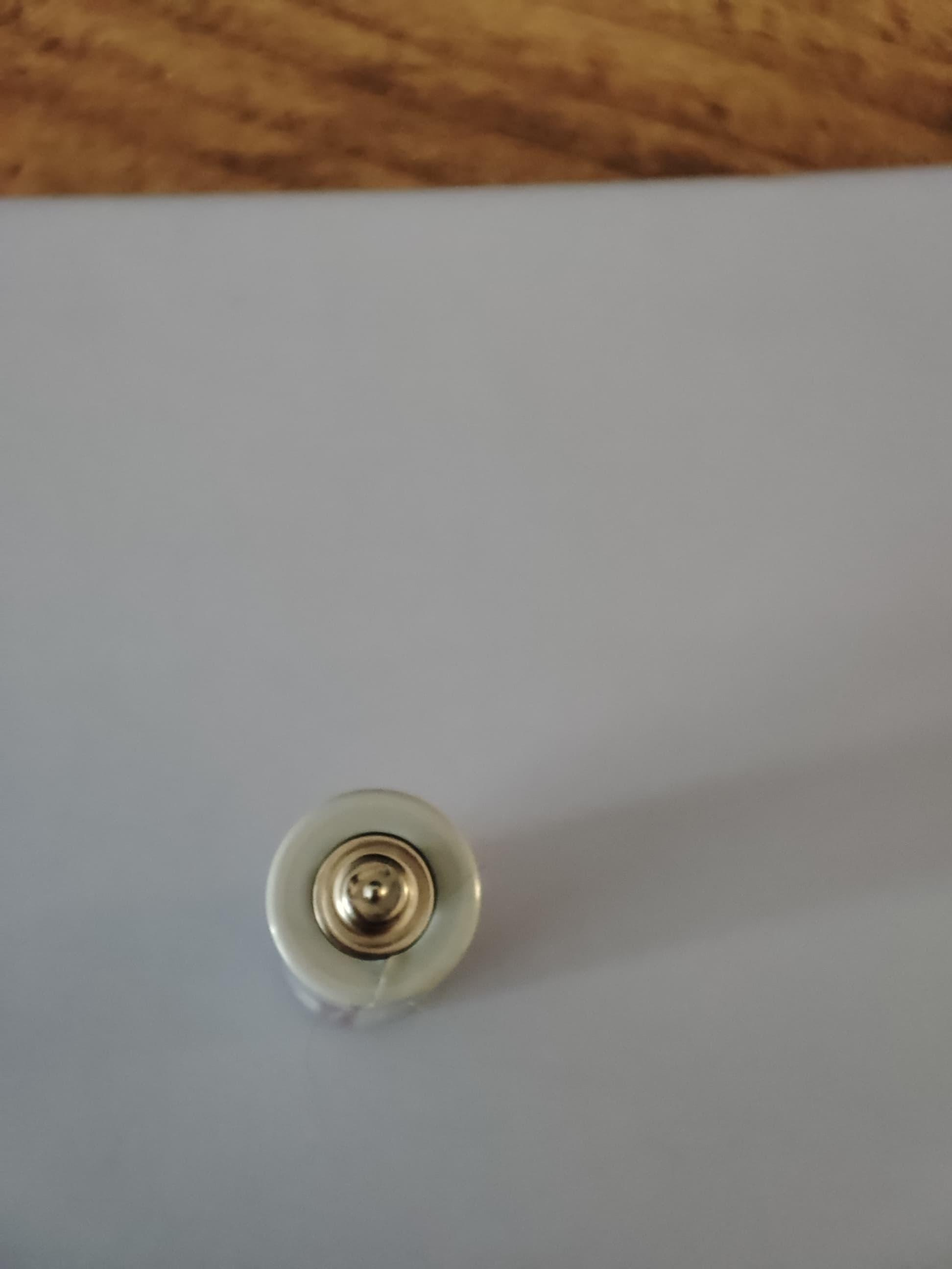AA: (263, 785, 482, 1016)
